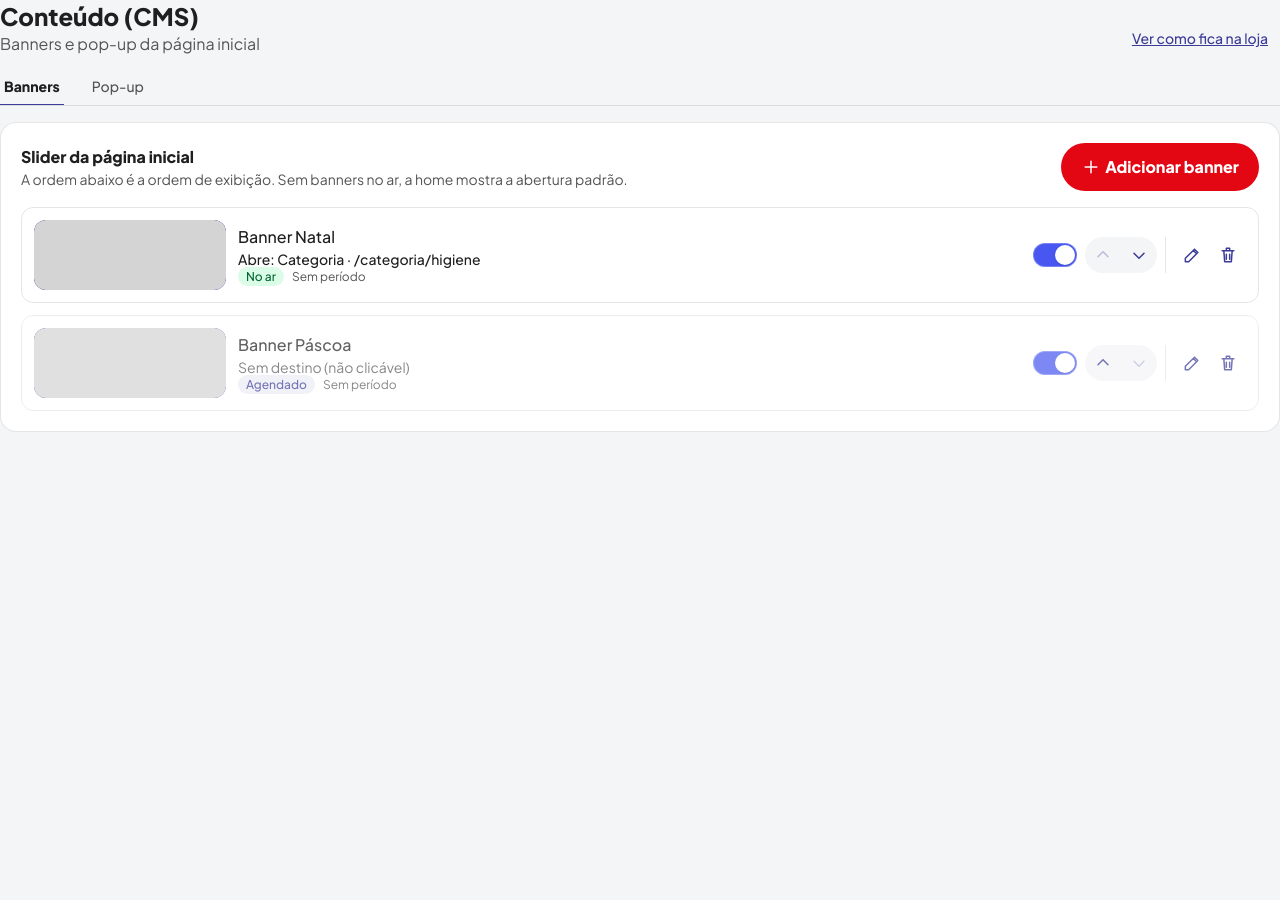
Test case: CMS: pop-up › situação Agendado ao lado do título
What coordinates should you click on to do the following:
click the tab "Pop-up"
I would click on:
 (118, 91)
Its box is [88,76,148,106].
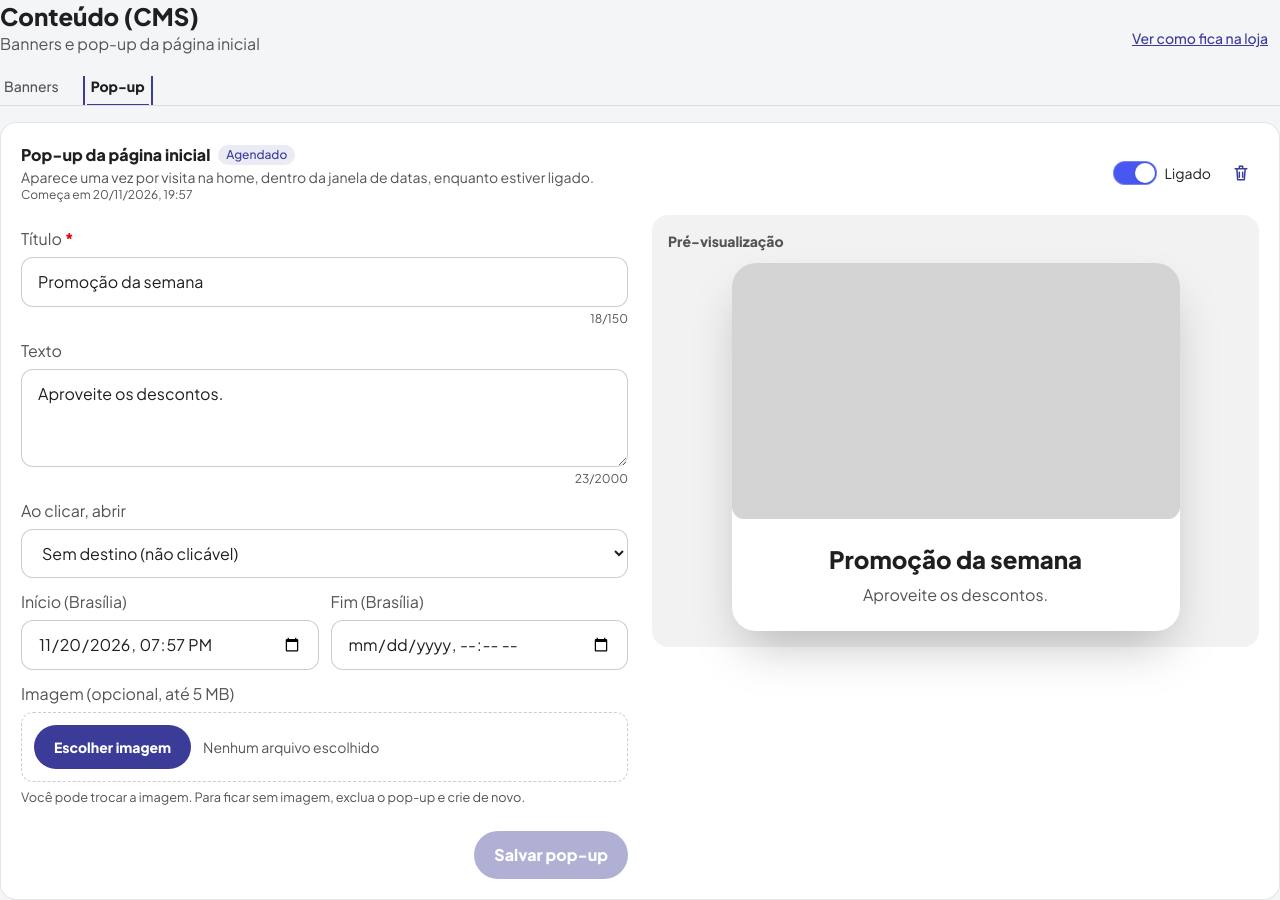
Check: the text "Agendado" is shown, box [218,145,295,165]
Check: the heading "Pop-up da página inicial" is shown, box [21,143,210,167]
Check: the text "Começa em 20/11/2026, 19:57" is shown, box [21,187,192,202]
